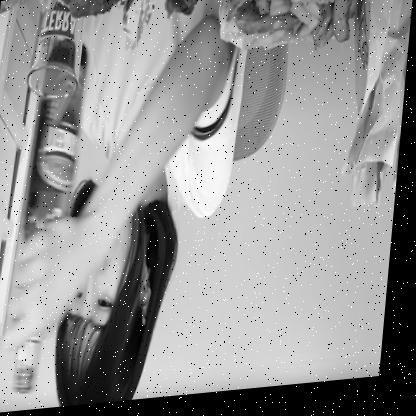streamer: (4, 0, 252, 413)
